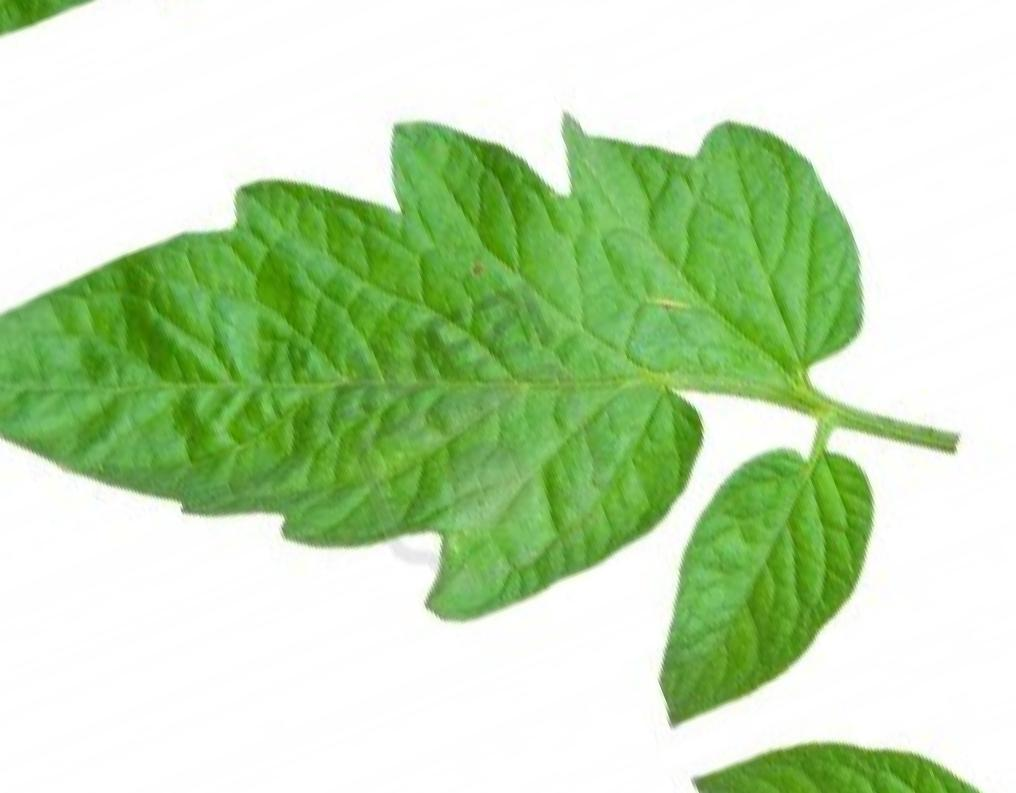Tomato leaf: (0, 0, 987, 770), (553, 419, 941, 769)
